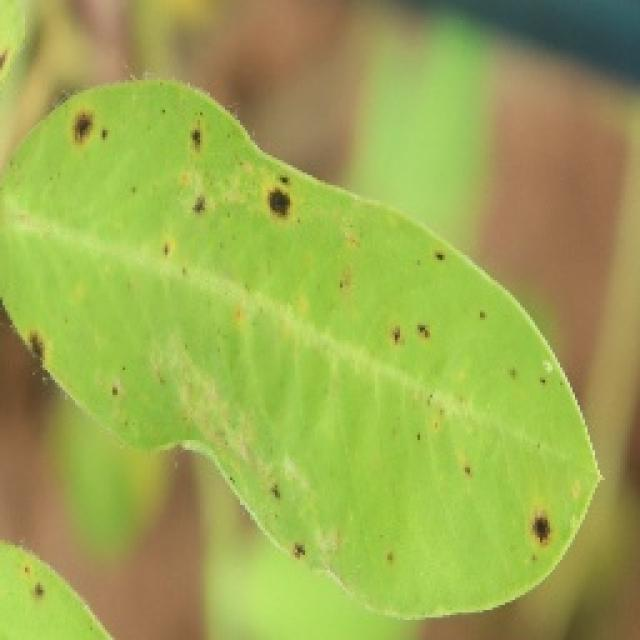Yellowish: (12, 66, 621, 614), (170, 102, 341, 254), (478, 455, 574, 590), (25, 84, 149, 181)
